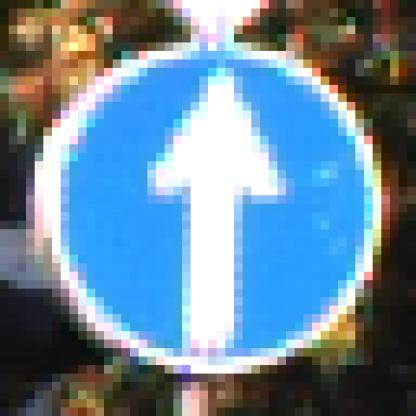AheadOnly: (44, 44, 374, 375)
